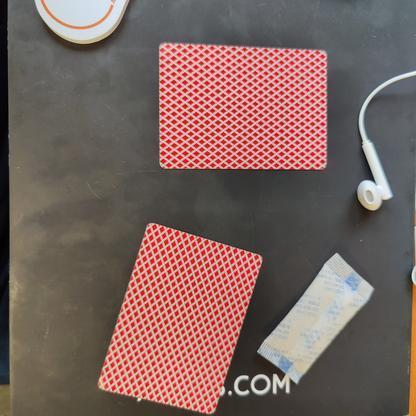card: (97, 216, 266, 416), (144, 30, 338, 182)
